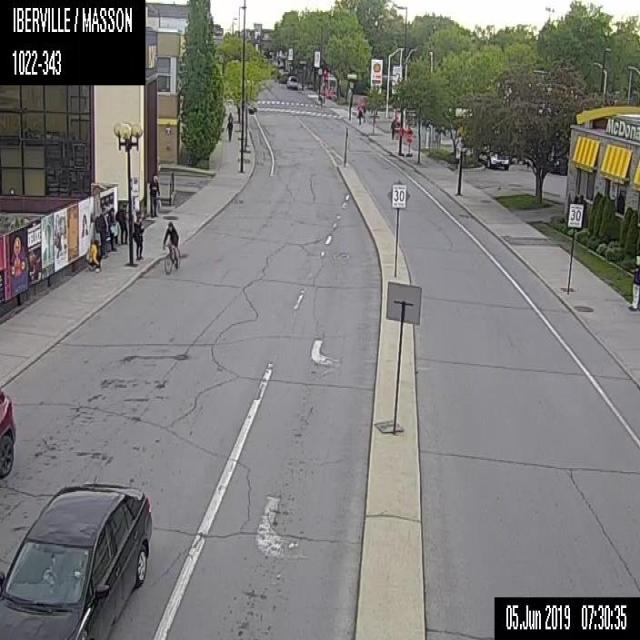construction: (398, 125, 413, 156)
cyclist: (161, 220, 181, 273)
pedestrian: (94, 204, 109, 258), (105, 205, 120, 252), (113, 201, 128, 247), (131, 213, 145, 259), (84, 238, 100, 271), (148, 173, 160, 216), (389, 116, 397, 140), (225, 117, 233, 141), (360, 102, 367, 122), (356, 104, 362, 125), (226, 111, 233, 122)
vehicle: (0, 478, 153, 638), (0, 385, 15, 480), (477, 140, 509, 171), (286, 74, 298, 90)
